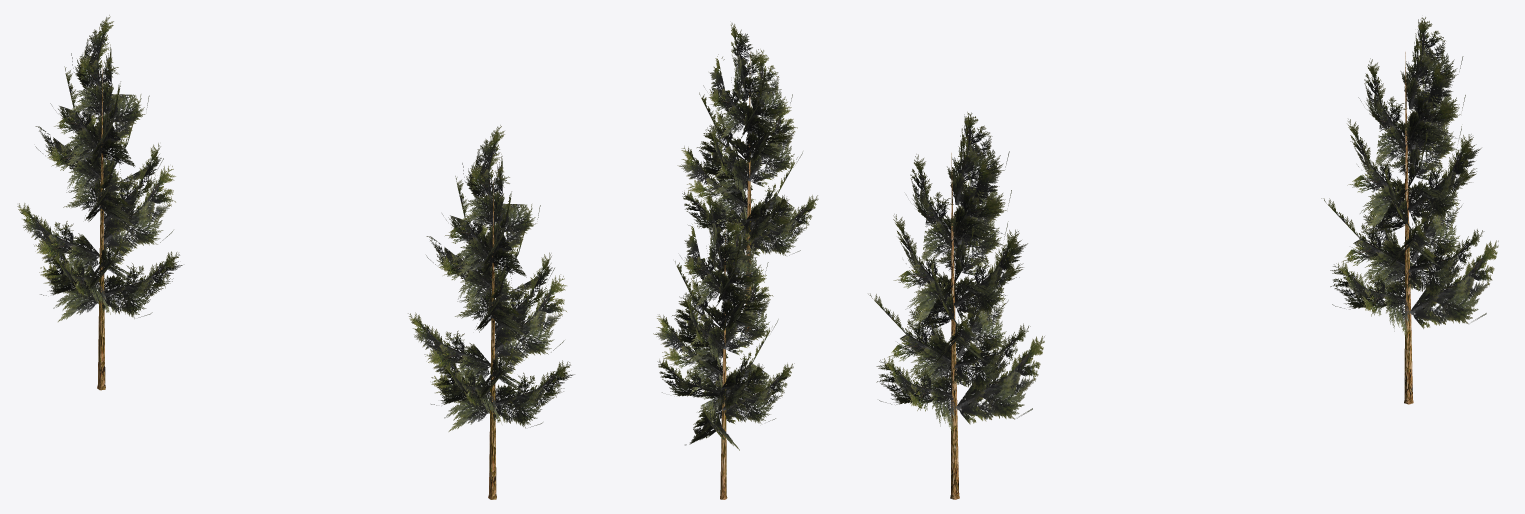
The model's file is TreesIFR.fbx.
The picture shows the model from 3 angles, left to right: view 1: azimuth 30°, elevation 25°; view 2: azimuth 150°, elevation 25°; view 3: azimuth 270°, elevation 25°; orthographic projection. The views are drawn at different scales.
Visible parts, largest first — view 1: Trees_IFRG; view 2: Trees_IFRG; view 3: Trees_IFRG.
Boxes of the visible parts, box(x1,y1,x2,y2) form: Trees_IFRG: box(17, 15, 574, 499); Trees_IFRG: box(653, 23, 818, 499); Trees_IFRG: box(868, 17, 1498, 499).
Bounding box in the file's own units: 1814 × 1799 × 2729.
Materials: 2 (2 with a texture image).
